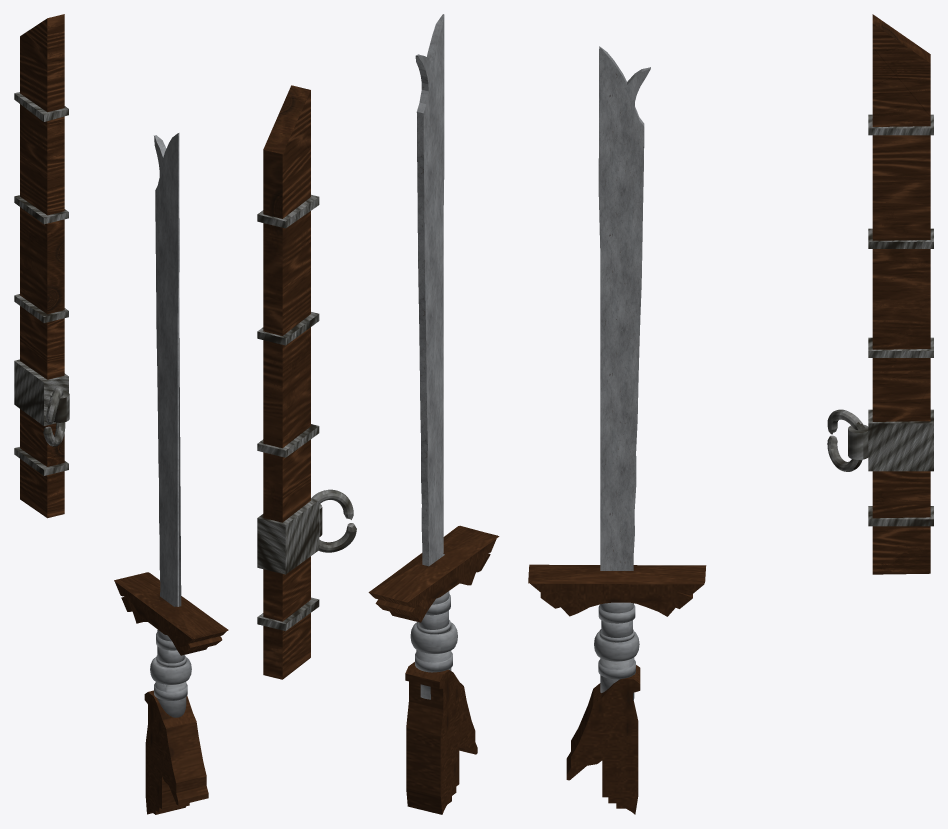
The model's file is KampilanBasewithSheeth 1.fbx.
The picture shows the model from 3 angles, left to right: view 1: azimuth 30°, elevation 25°; view 2: azimuth 150°, elevation 25°; view 3: azimuth 270°, elevation 25°; orthographic projection. The views are drawn at different scales.
Visible parts, largest first — view 1: sheeth, Plane.002, Plane.006, rope, Plane.001, Plane.004; view 2: sheeth, Plane.002, Plane.006, rope, Plane.001, Plane.004; view 3: sheeth, Plane.002, rope, Plane.001, Plane.006, Plane.004.
Part boxes in pixels (left/top/right/bottom): sheeth: left=20, top=14, right=64, bottom=518; Plane.002: left=154, top=133, right=181, bottom=606; Plane.006: left=144, top=690, right=208, bottom=814; rope: left=14, top=92, right=69, bottom=475; Plane.001: left=114, top=572, right=228, bottom=655; Plane.004: left=150, top=630, right=191, bottom=717; sheeth: left=263, top=85, right=310, bottom=679; Plane.002: left=415, top=14, right=444, bottom=566; Plane.006: left=405, top=662, right=477, bottom=814; rope: left=257, top=194, right=356, bottom=631; Plane.001: left=368, top=525, right=499, bottom=622; Plane.004: left=410, top=591, right=457, bottom=699; sheeth: left=872, top=14, right=930, bottom=574; Plane.002: left=598, top=46, right=650, bottom=570; rope: left=827, top=114, right=933, bottom=526; Plane.001: left=528, top=564, right=706, bottom=616; Plane.006: left=566, top=665, right=640, bottom=814; Plane.004: left=594, top=602, right=639, bottom=700.
Bounding box in the file's own units: 131 × 1886 × 879.
5 materials, 5 textured.
